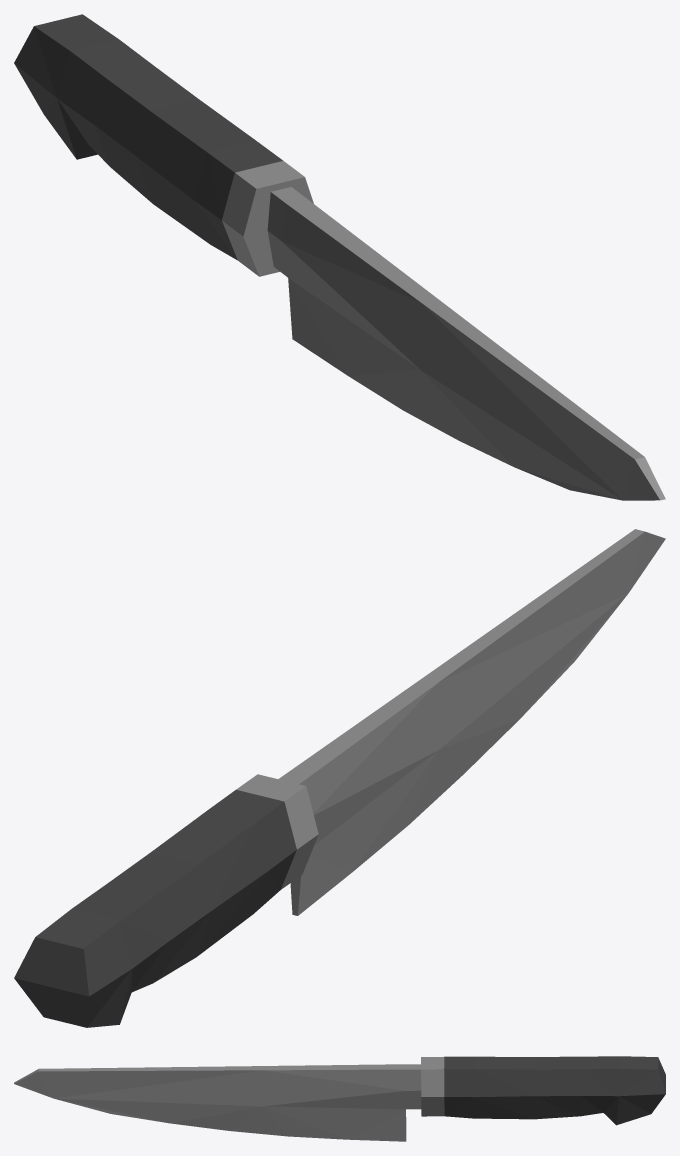
Rendered from Knife_Throwing.fbx.
3 views of the same model, one above another, from view 1: azimuth 30°, elevation 25°; view 2: azimuth 150°, elevation 25°; view 3: azimuth 270°, elevation 25° (orthographic). The views are drawn at different scales.
Visible parts, largest first — view 1: Character_01.002; view 2: Character_01.002; view 3: Character_01.002.
Boxes of the visible parts, box(x1,y1,x2,y2) form: Character_01.002: box(14, 14, 665, 500); Character_01.002: box(14, 529, 665, 1027); Character_01.002: box(14, 1056, 665, 1141).
Size of the model in its own units: 4.33 by 8.07 by 60.84.
